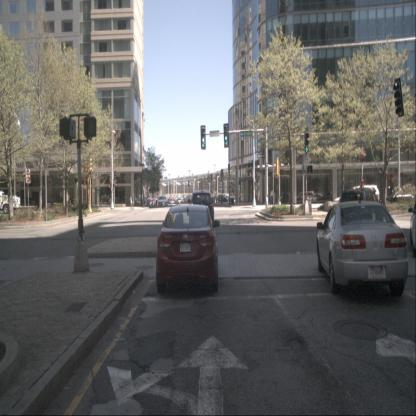human-pedestrian-adult: (131, 192, 134, 210), (130, 195, 132, 207)
vehicle-car: (317, 200, 408, 296), (155, 204, 218, 292), (334, 184, 380, 216), (189, 190, 214, 226), (379, 191, 415, 206), (410, 200, 415, 260), (294, 190, 314, 204), (20, 197, 36, 208), (307, 193, 323, 203), (156, 196, 168, 207), (99, 194, 109, 204), (218, 195, 227, 202)
vehicle-truck: (0, 191, 21, 214)
